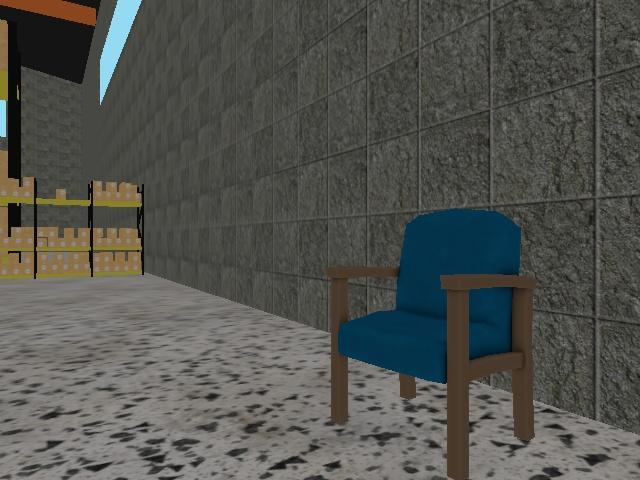chair: (326, 208, 538, 479)
